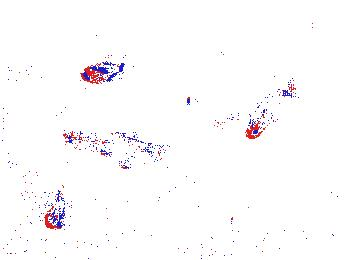X-ray fish: (43, 192, 69, 230)
red belly glassfish: (79, 59, 127, 85), (210, 112, 250, 131)
redtail glassfish: (61, 127, 162, 167), (244, 80, 300, 140)
